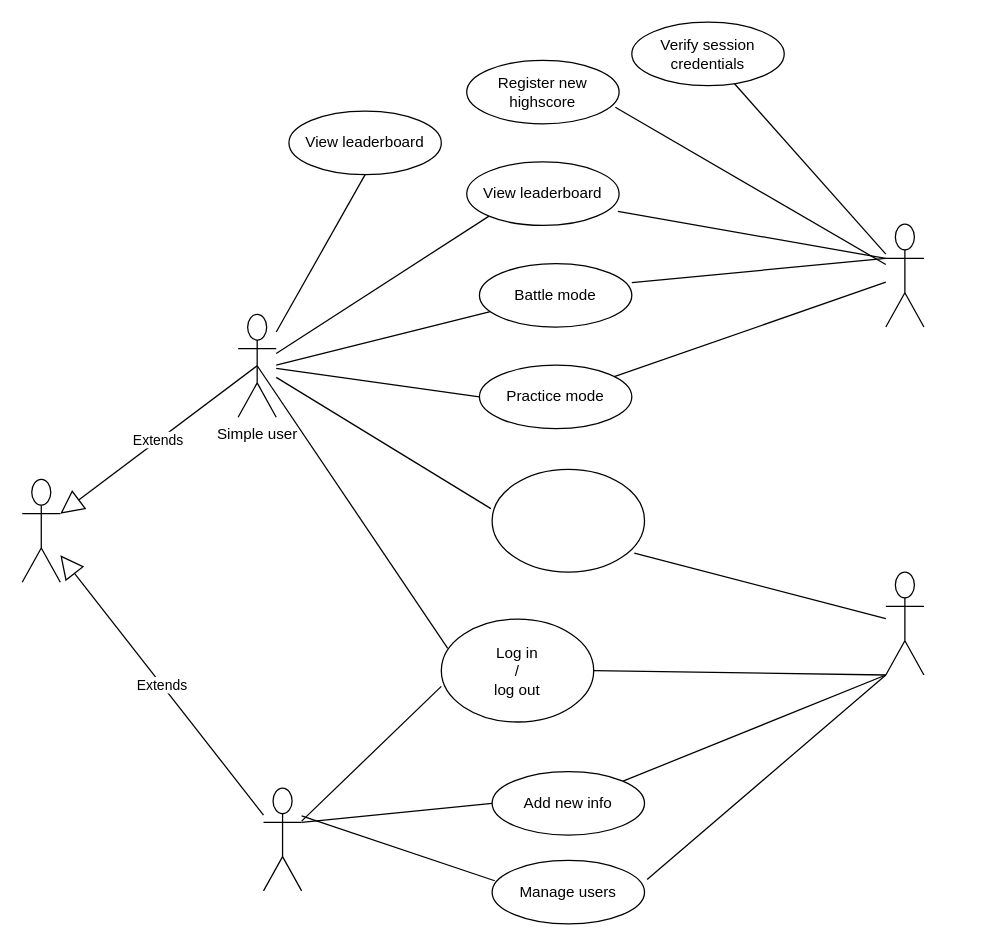
The diagram is 984 pixels wide and 946 high, and some of its shapes have lost their labels. The centre of each missing label's shape, as x and y in pixels:
"Admin" goes at [282,839].
"Backend System" goes at [904,275].
"Database API" goes at [904,623].
"Register" goes at [568,520].
"User" goes at [40,530].
